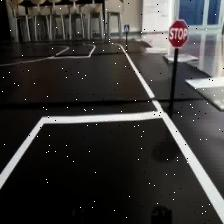Stop: (167, 19, 189, 49)
